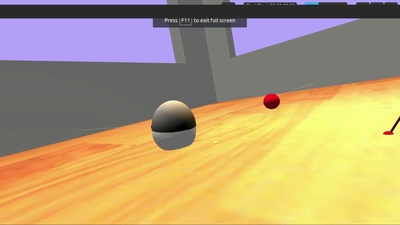mira_robot: (151, 100, 197, 151)
